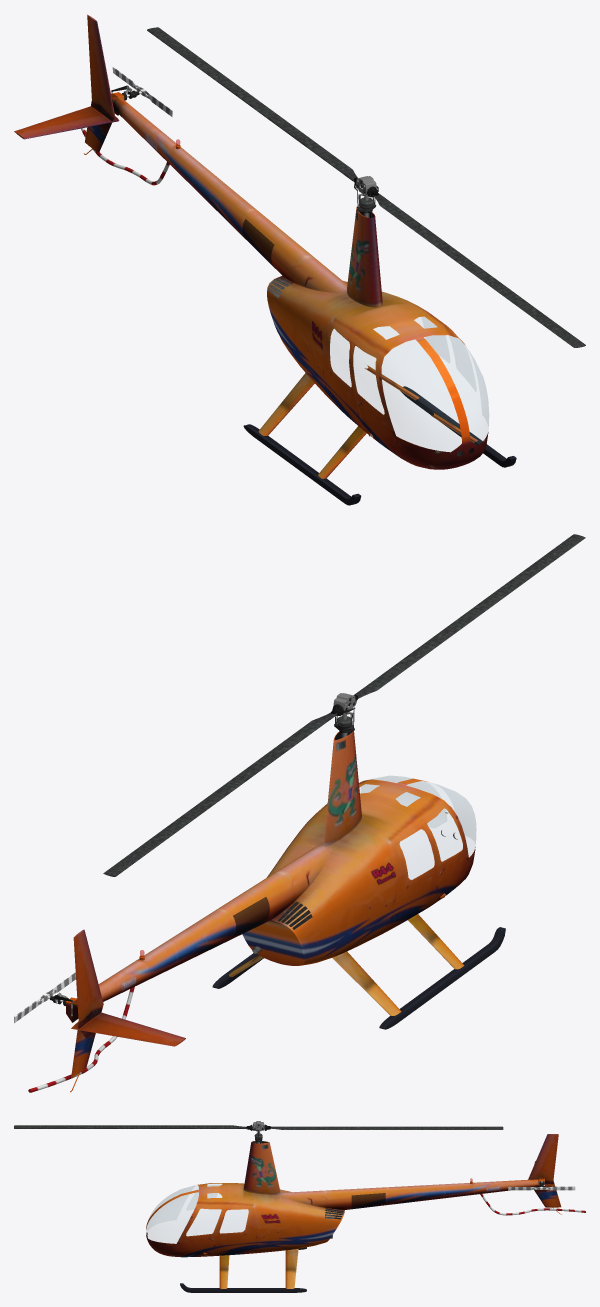
Rendered from Orange.gltf.
3 renders of one model, top to bottom at view 1: azimuth 30°, elevation 25°; view 2: azimuth 150°, elevation 25°; view 3: azimuth 270°, elevation 25°, orthographic. The views are drawn at different scales.
Visible parts, largest first — view 1: Exterior, Spin_0; view 2: Exterior, Spin_0; view 3: Exterior, Spin_0, Spin_1.
Part boxes in pixels (<box>): Exterior: <box>14,14,516,505</box>; Spin_0: <box>147,27,585,347</box>; Exterior: <box>28,731,505,1092</box>; Spin_0: <box>103,534,585,876</box>; Exterior: <box>146,1134,585,1292</box>; Spin_0: <box>14,1121,503,1143</box>; Spin_1: <box>508,1184,575,1190</box>.
Size of the model in its own units: 2.39 by 3.36 by 11.78.
10 materials, 10 textured.
